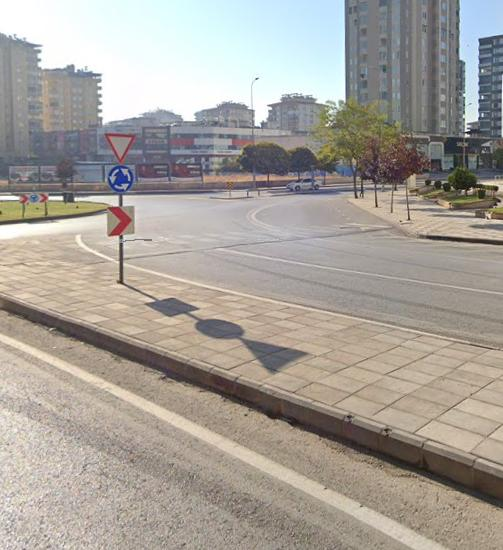crossroads: (105, 163, 136, 195)
